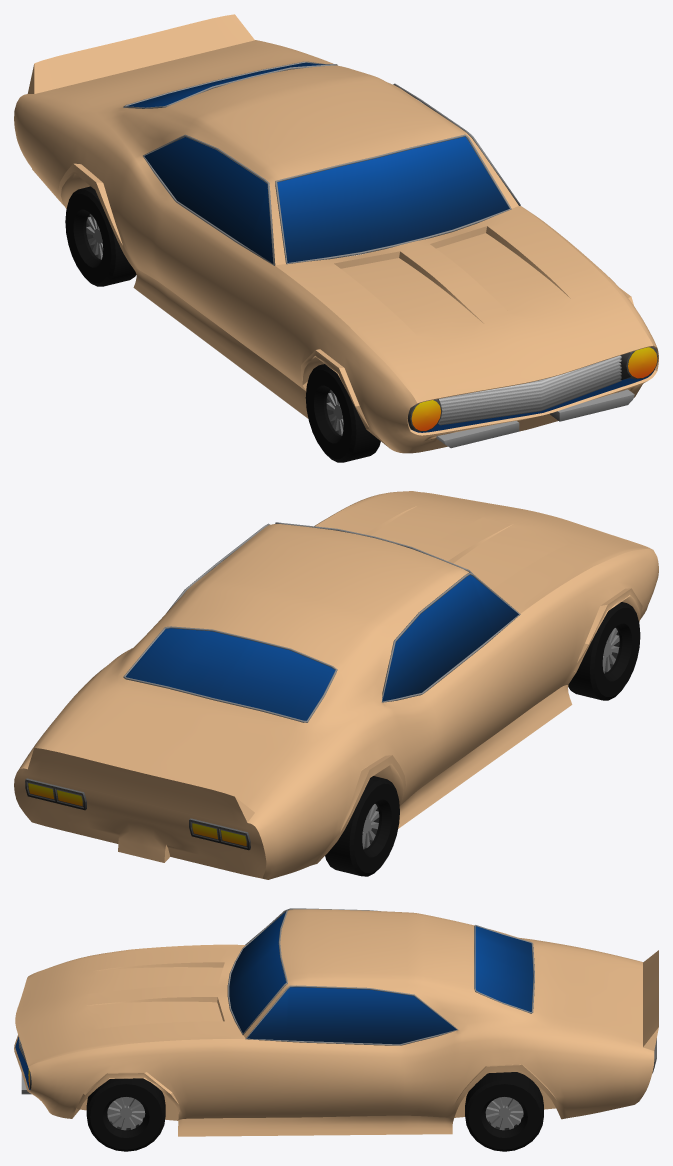
The model's file is araba1.fbx.
3 renders of one model, top to bottom at view 1: azimuth 30°, elevation 25°; view 2: azimuth 150°, elevation 25°; view 3: azimuth 270°, elevation 25°, orthographic. The views are drawn at different scales.
Visible parts, largest first — view 1: araba.002, ön lastik.004, ön lastik.005; view 2: araba.002, ön lastik.005, ön lastik.004; view 3: araba.002, ön lastik.005, ön lastik.004.
Part boxes in pixels (<box>): araba.002: <box>14,14,658,453</box>; ön lastik.004: <box>305,364,380,462</box>; ön lastik.005: <box>65,186,136,286</box>; araba.002: <box>14,491,658,879</box>; ön lastik.005: <box>325,776,399,876</box>; ön lastik.004: <box>568,602,640,700</box>; araba.002: <box>14,908,658,1136</box>; ön lastik.005: <box>465,1072,543,1151</box>; ön lastik.004: <box>86,1078,165,1151</box>.
Bounding box in the file's own units: 2.51 × 1.62 × 6.01.
4 materials, 1 textured.
